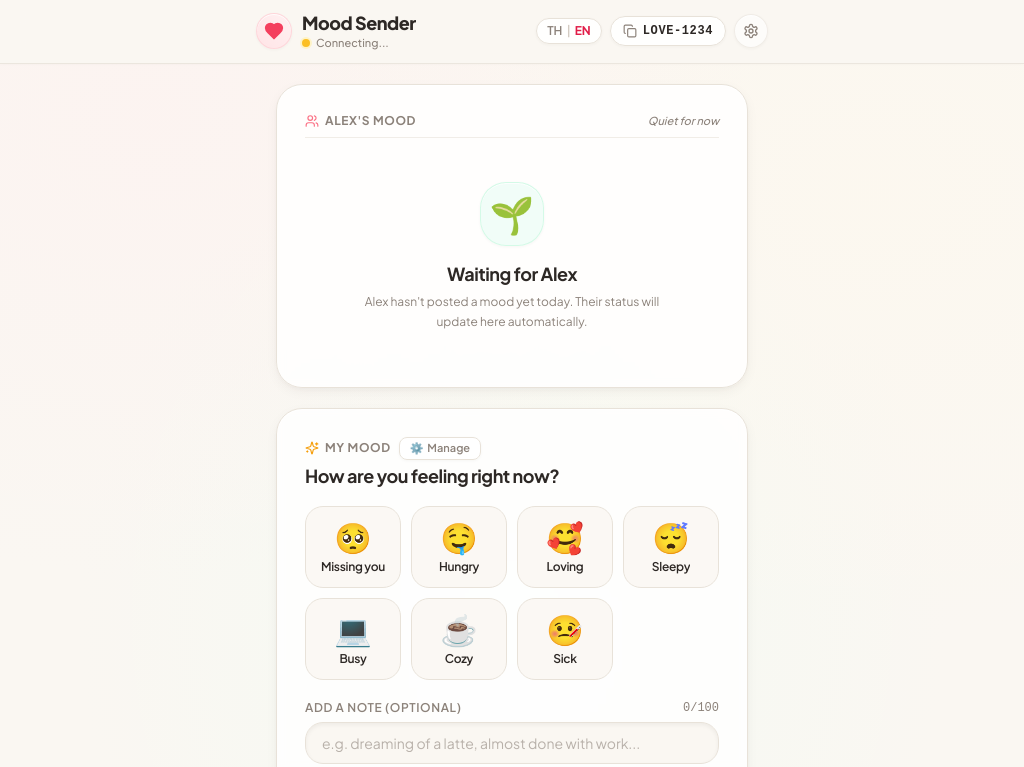
App Integration › handles broadcast mood and unpairing flow with SSE cleanup
Check: the heading "How are you feeling right now?" is shown, box [305,462,559,490]
# Select Sleepy preset
Click the button "😴 Sleepy" at point(671, 546), box [623,506,719,588]
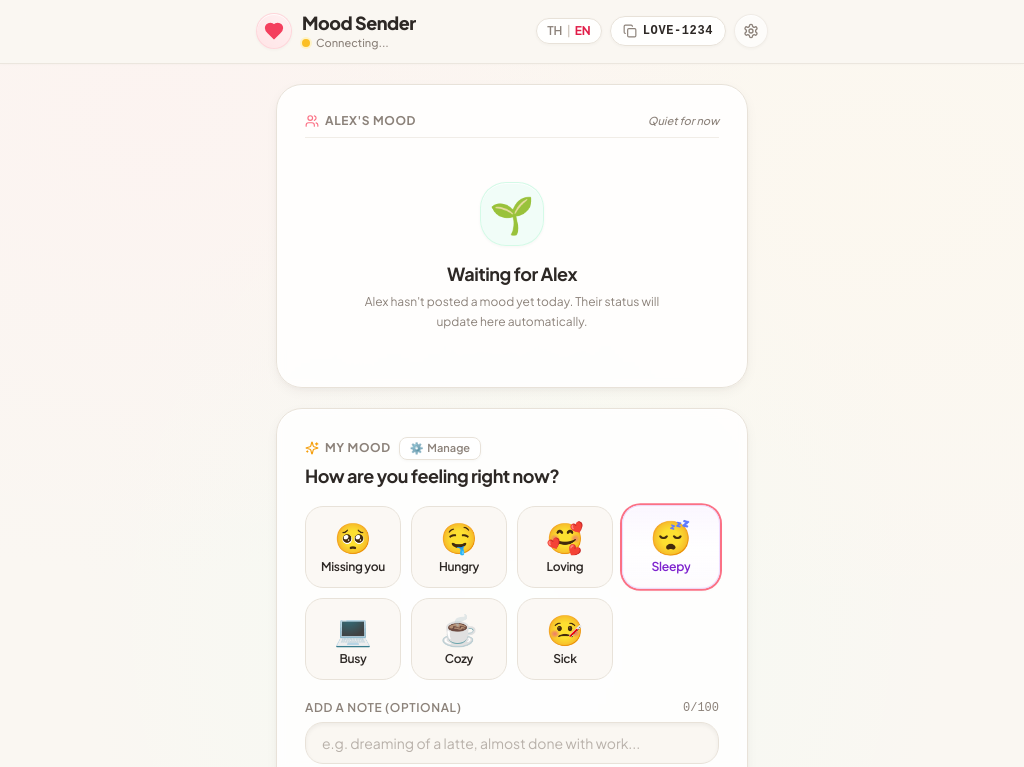
# Enter note
Type "Taking a nap" into the field with placeholder "e.g. dreaming of a latte, almost done with work..." at point(512, 742), box [305,722,719,764]
(page scrolled)
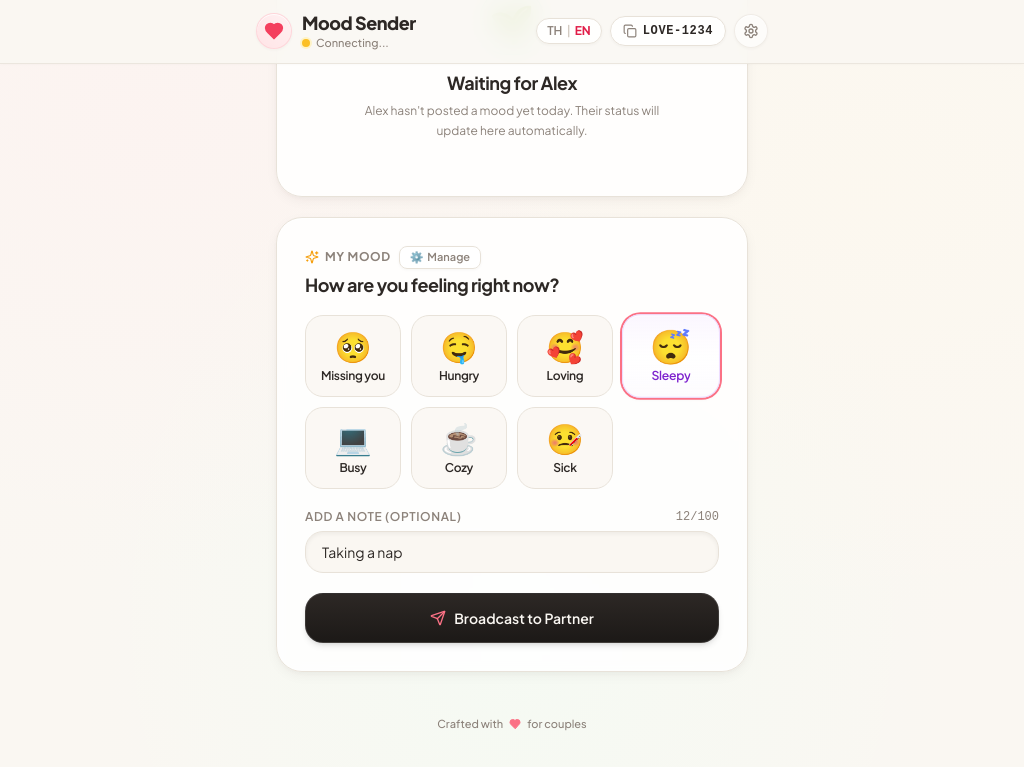
# Submit broadcast
Click the button "Broadcast to Partner" at point(512, 618), box [305,592,719,642]
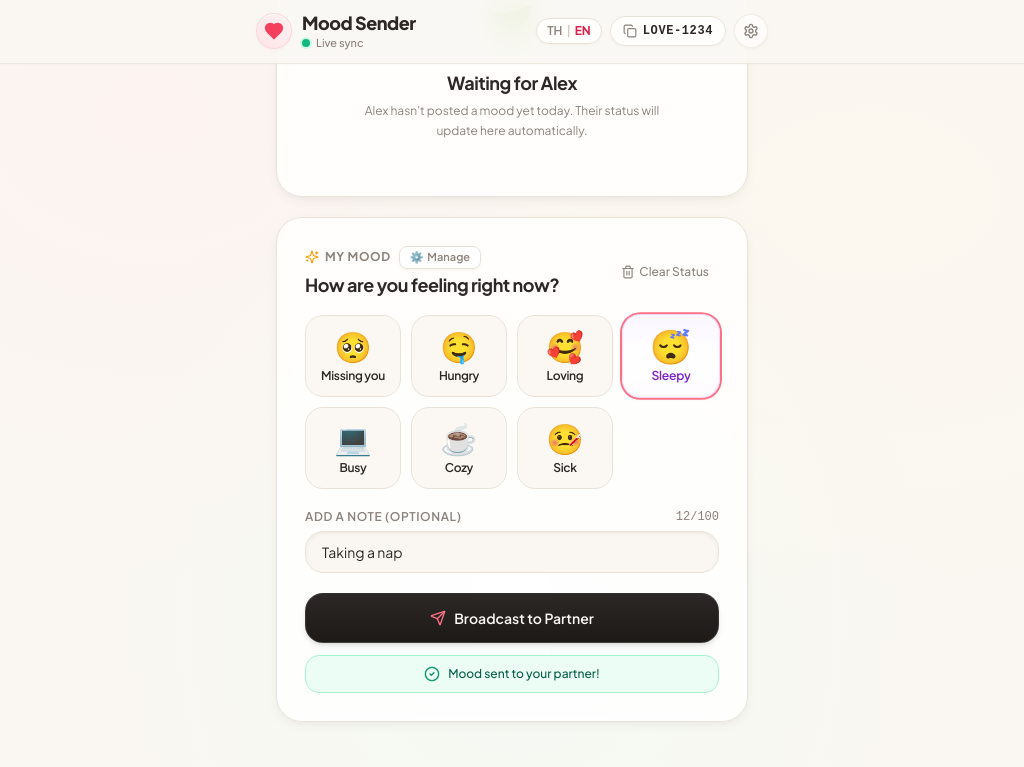
# Open settings and unpair
Click the button named "Couple Settings" at point(751, 31), box [734,14,768,48]
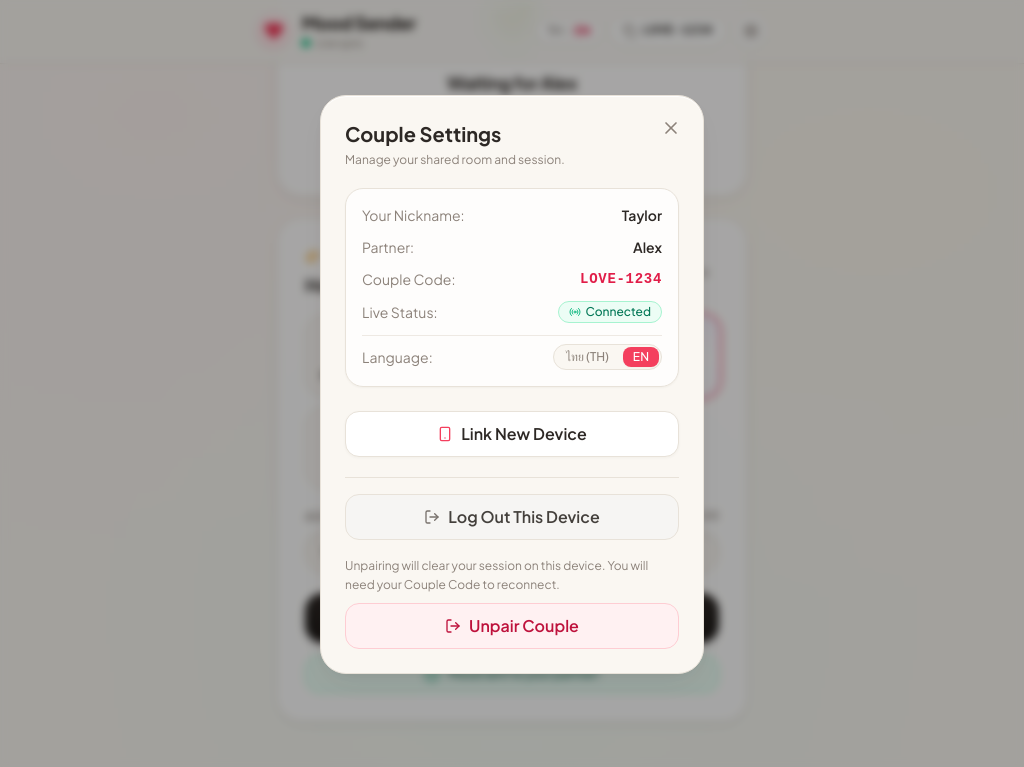
Click the button "Unpair Couple" at point(512, 626), box [345,602,679,648]
(page scrolled)
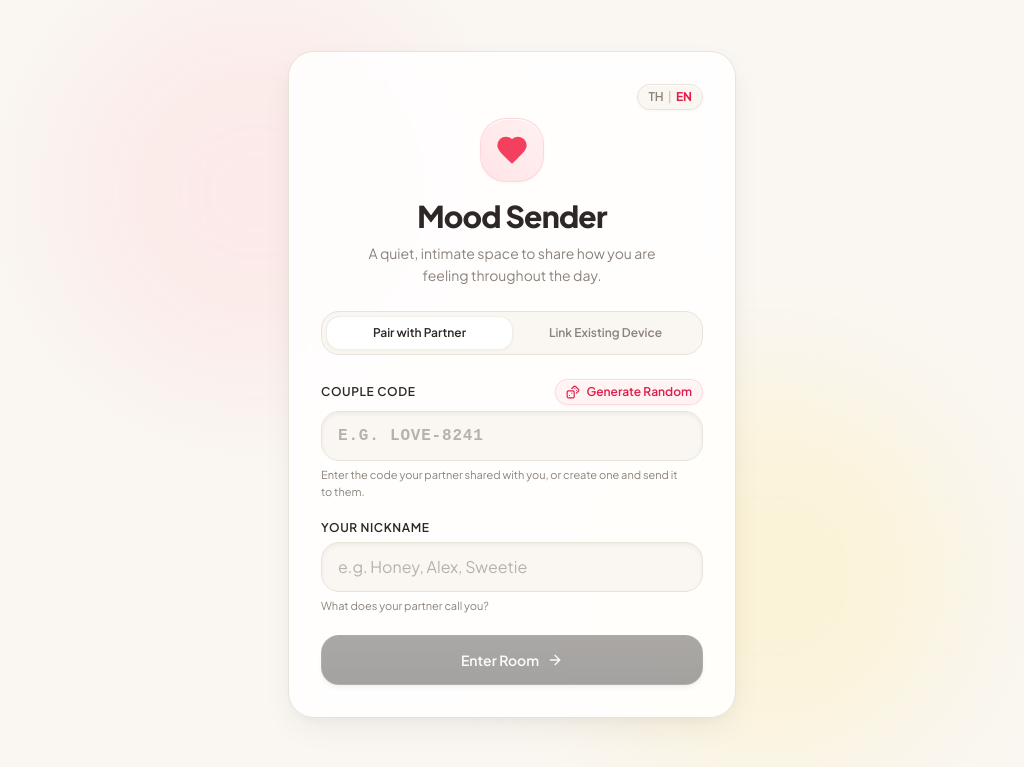
Check: the text "Enter Room" is shown, box [461,650,539,670]
